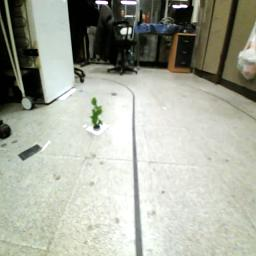herb: (91, 95, 106, 130)
